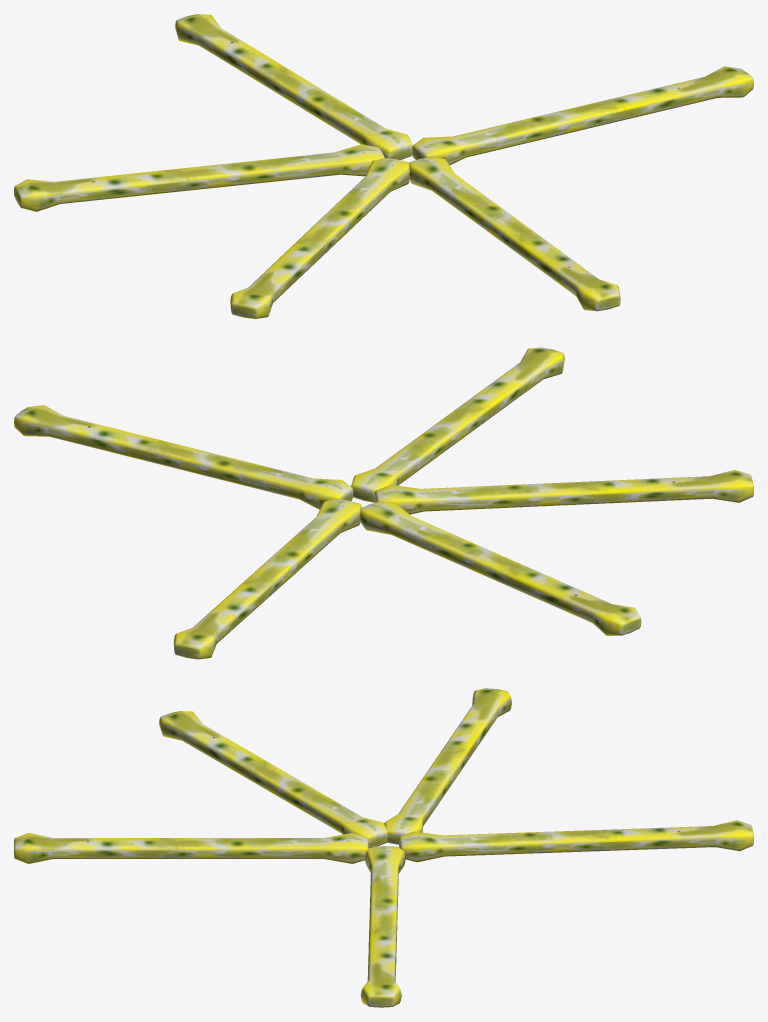
The model's file is AsterionellaFormosa_comb1.FBX.
3 renders of one model, top to bottom at view 1: azimuth 30°, elevation 25°; view 2: azimuth 150°, elevation 25°; view 3: azimuth 270°, elevation 25°, orthographic. The views are drawn at different scales.
Parts seen in each view (by area): view 1: ChamferBox003, ChamferBox005, ChamferBox004, ChamferBox001, ChamferBox002; view 2: ChamferBox002, ChamferBox005, ChamferBox003, ChamferBox001, ChamferBox004; view 3: ChamferBox004, ChamferBox001, ChamferBox002, ChamferBox003, ChamferBox005.
Part boxes in pixels (x1,y1,x2,y2): ChamferBox003: (14, 144, 384, 211); ChamferBox005: (412, 66, 753, 165); ChamferBox004: (175, 14, 412, 159); ChamferBox001: (409, 156, 620, 311); ChamferBox002: (230, 158, 410, 318); ChamferBox002: (374, 470, 753, 514); ChamferBox005: (14, 405, 353, 509); ChamferBox003: (360, 501, 641, 635); ChamferBox001: (351, 347, 564, 502); ChamferBox004: (173, 499, 361, 659); ChamferBox004: (399, 820, 753, 862); ChamferBox001: (14, 833, 368, 863); ChamferBox002: (159, 711, 387, 848); ChamferBox003: (384, 688, 511, 844); ChamferBox005: (360, 846, 405, 1007).
Bounding box in the file's own units: 217 × 6.42 × 220.
1 material, 1 textured.
